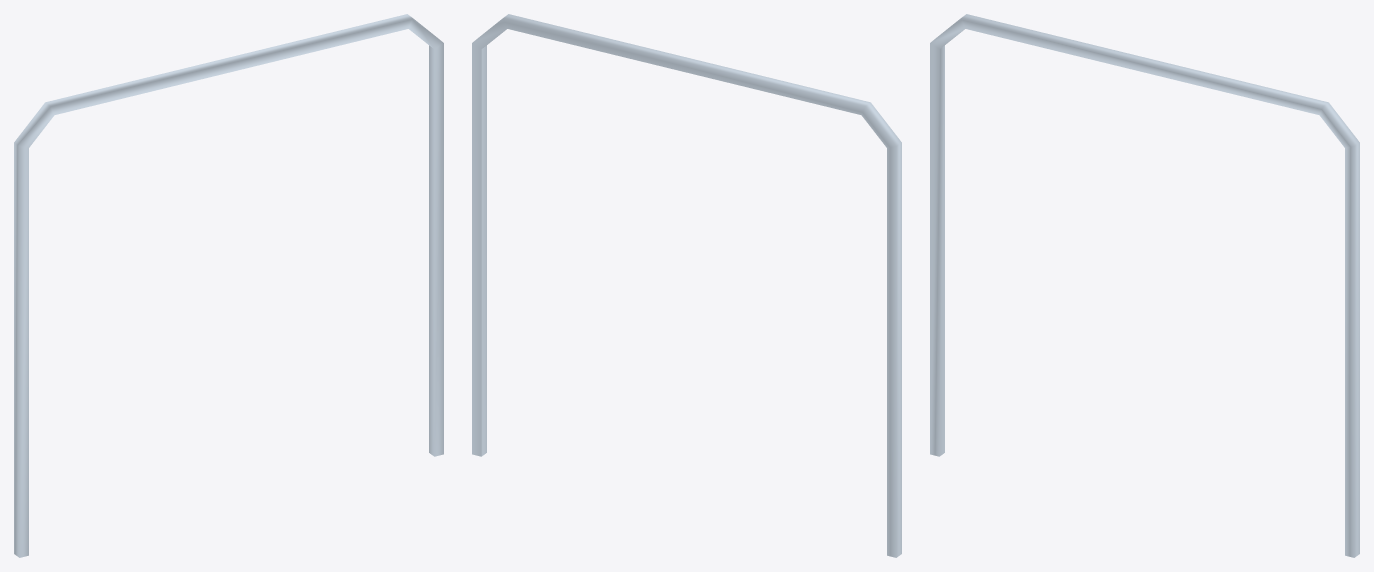
Rendered from ps2_save-icons_aggressiveinline-park.glb.
The picture shows the model from 3 angles, left to right: view 1: azimuth 30°, elevation 25°; view 2: azimuth 150°, elevation 25°; view 3: azimuth 330°, elevation 25°; orthographic projection.
Parts seen in each view (by area): view 1: game_icon.ico; view 2: game_icon.ico; view 3: game_icon.ico.
Part boxes in pixels (<box>): game_icon.ico: <box>14,14,443,557</box>; game_icon.ico: <box>472,14,901,557</box>; game_icon.ico: <box>930,14,1359,557</box>.
Size of the model in its own units: 4.26 by 4.26 by 0.0947.
Materials: 1 (1 with a texture image).
